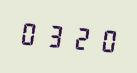three: (43, 17, 67, 52)
two: (68, 20, 92, 55)
zero: (18, 15, 42, 50), (93, 22, 117, 57)
